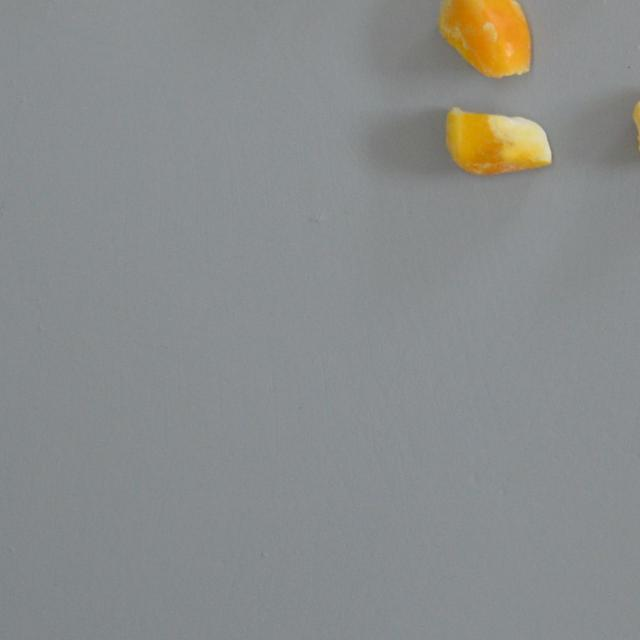pelicula: (436, 0, 536, 80), (444, 106, 552, 175)
